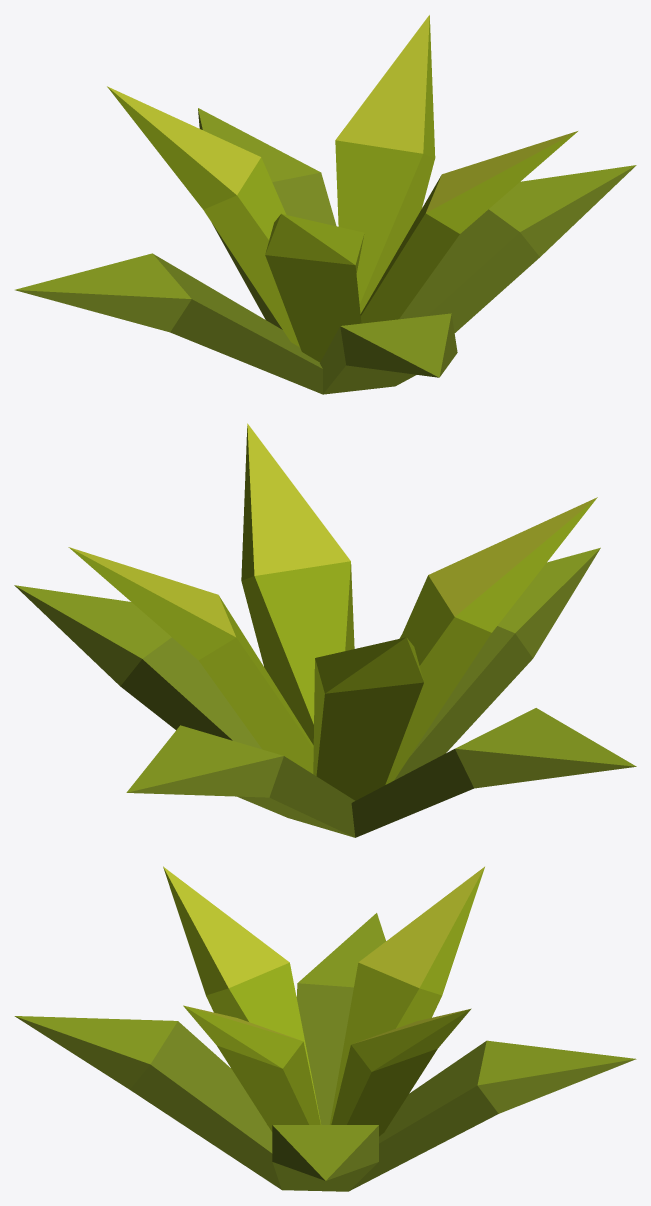
File: TB_D_Env_GrassA_A.FBX
The picture shows the model from 3 angles, top to bottom: view 1: azimuth 30°, elevation 25°; view 2: azimuth 150°, elevation 25°; view 3: azimuth 270°, elevation 25°; orthographic projection. The views are drawn at different scales.
Visible parts, largest first — view 1: TB_D_Env_GrassA_A; view 2: TB_D_Env_GrassA_A; view 3: TB_D_Env_GrassA_A.
Part boxes in pixels (<box>): TB_D_Env_GrassA_A: <box>15,15,636,394</box>; TB_D_Env_GrassA_A: <box>14,423,636,837</box>; TB_D_Env_GrassA_A: <box>14,866,636,1191</box>.
Bounding box in the file's own units: 1.39 × 0.5867 × 1.36.
